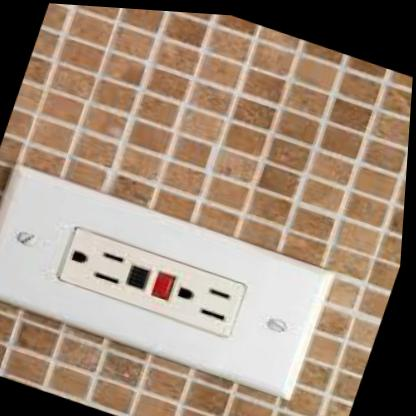OUTLET: (0, 159, 341, 402)
